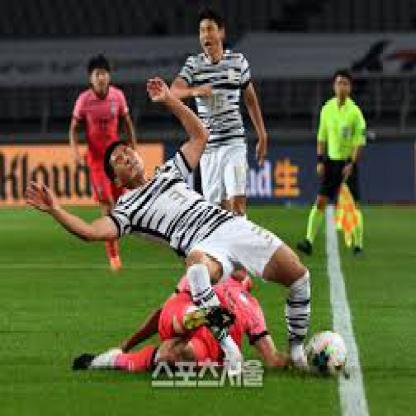Fall_Down: (19, 75, 317, 384)
